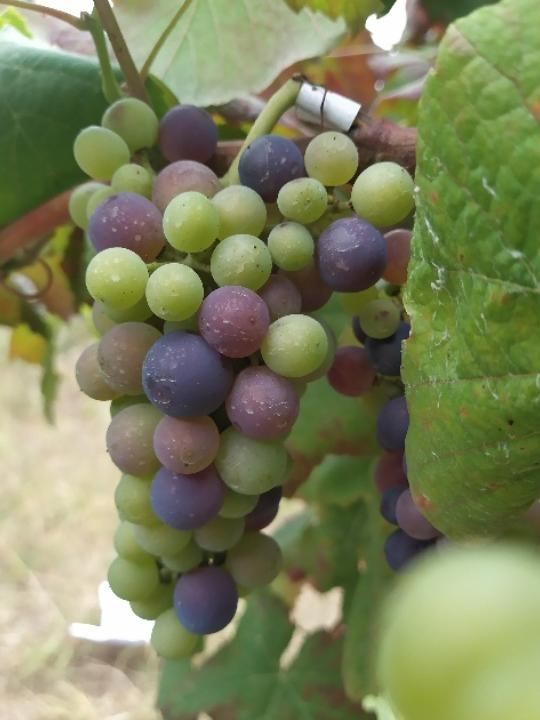grape: (64, 95, 428, 664)
